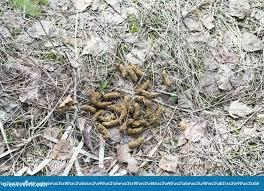Elk: (88, 64, 150, 138)
